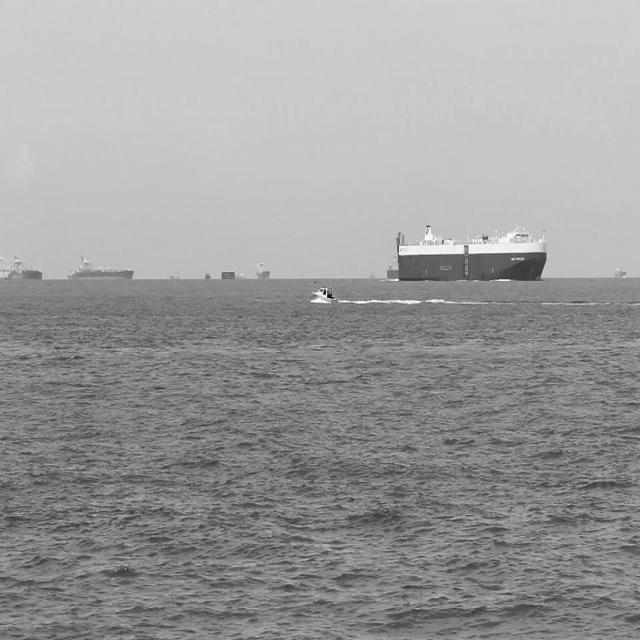ship: (394, 219, 550, 284), (61, 249, 136, 281), (0, 254, 47, 283), (306, 279, 340, 307), (252, 258, 272, 284), (610, 258, 626, 284), (383, 259, 398, 281)
